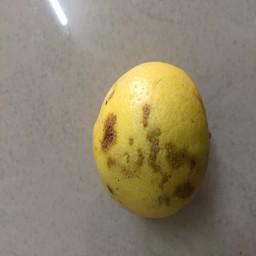Bad_lime: (91, 54, 215, 225)
